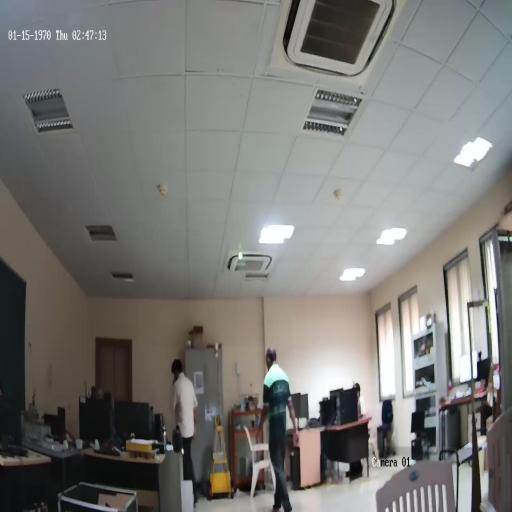laser: (238, 250, 244, 262)
